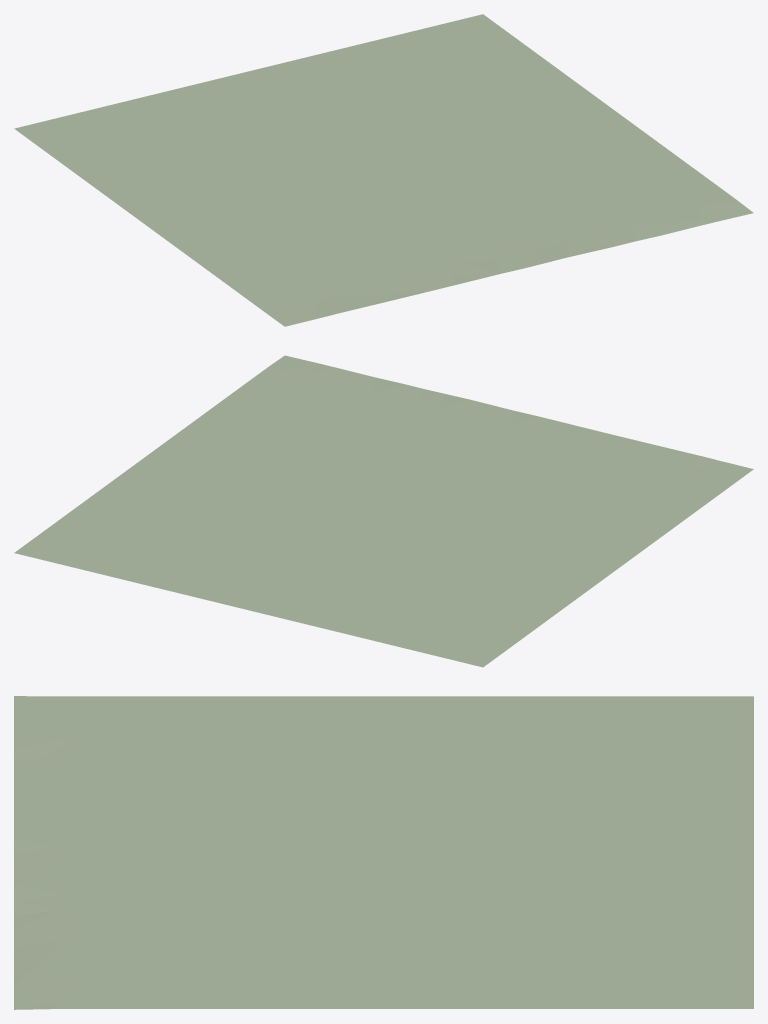
Rendered from SM_MPRR_Terrain_-1_-1.fbx.
3 views of the same model, one above another, from view 1: azimuth 30°, elevation 25°; view 2: azimuth 150°, elevation 25°; view 3: azimuth 270°, elevation 25° (orthographic). The views are drawn at different scales.
Parts seen in each view (by area): view 1: SM_MPRR_Terrain_-1_-1; view 2: SM_MPRR_Terrain_-1_-1; view 3: SM_MPRR_Terrain_-1_-1.
Boxes of the visible parts, x1=… form: SM_MPRR_Terrain_-1_-1: x1=14, y1=14, x2=753, y2=326; SM_MPRR_Terrain_-1_-1: x1=14, y1=355, x2=753, y2=667; SM_MPRR_Terrain_-1_-1: x1=14, y1=696, x2=753, y2=1009.
Bounding box in the file's own units: 15000 × 15000 × 32.
